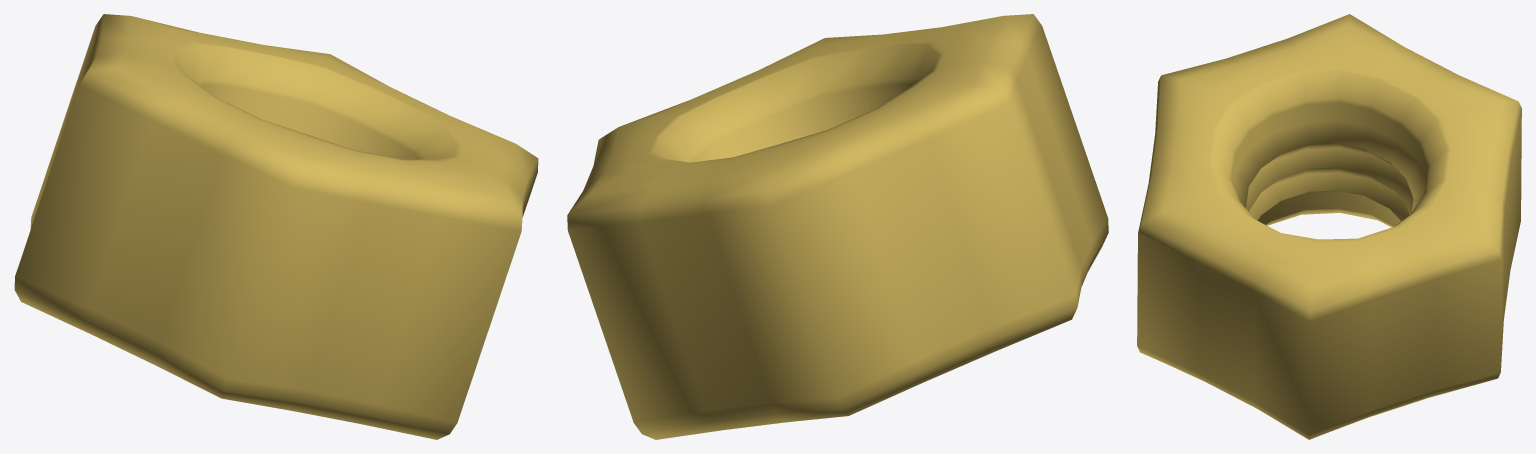
The model's file is nut.fbx.
3 views of the same model, side by side, from view 1: azimuth 30°, elevation 25°; view 2: azimuth 150°, elevation 25°; view 3: azimuth 270°, elevation 25° (orthographic). The views are drawn at different scales.
Visible parts, largest first — view 1: nut; view 2: nut; view 3: nut.
Part boxes in pixels (<box>): nut: <box>14,14,538,439</box>; nut: <box>567,14,1108,439</box>; nut: <box>1137,14,1521,439</box>.
Size of the model in its own units: 0.9558 by 0.6895 by 0.8133.
